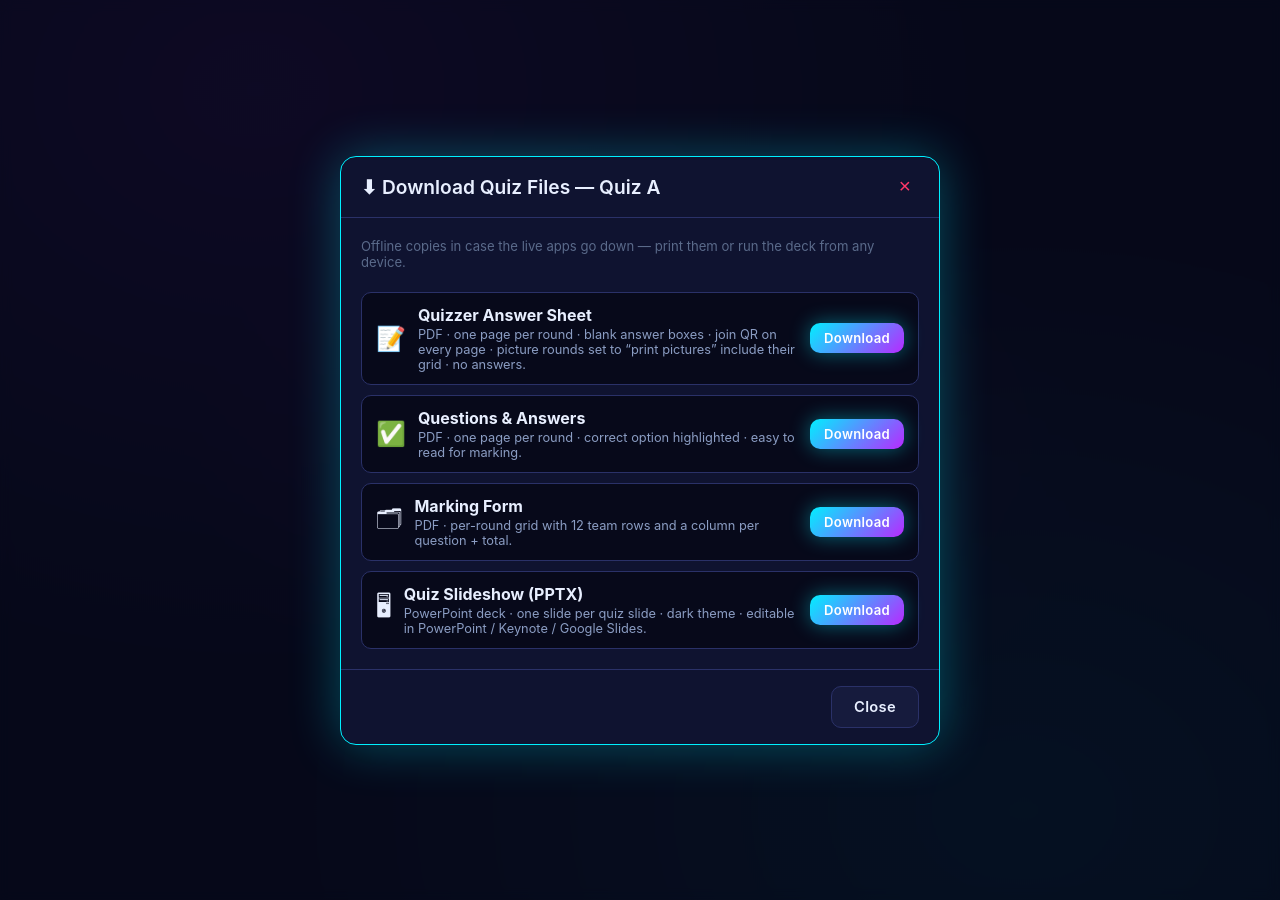
Test: DownloadFilesModal › surfaces a generator error
Expected: the heading "⬇ Download Quiz Files — Quiz A" is shown, [361, 174, 660, 198]
Click the button "Download" in the row of "Questions & Answers".
click(857, 434)  # box [810, 418, 904, 448]
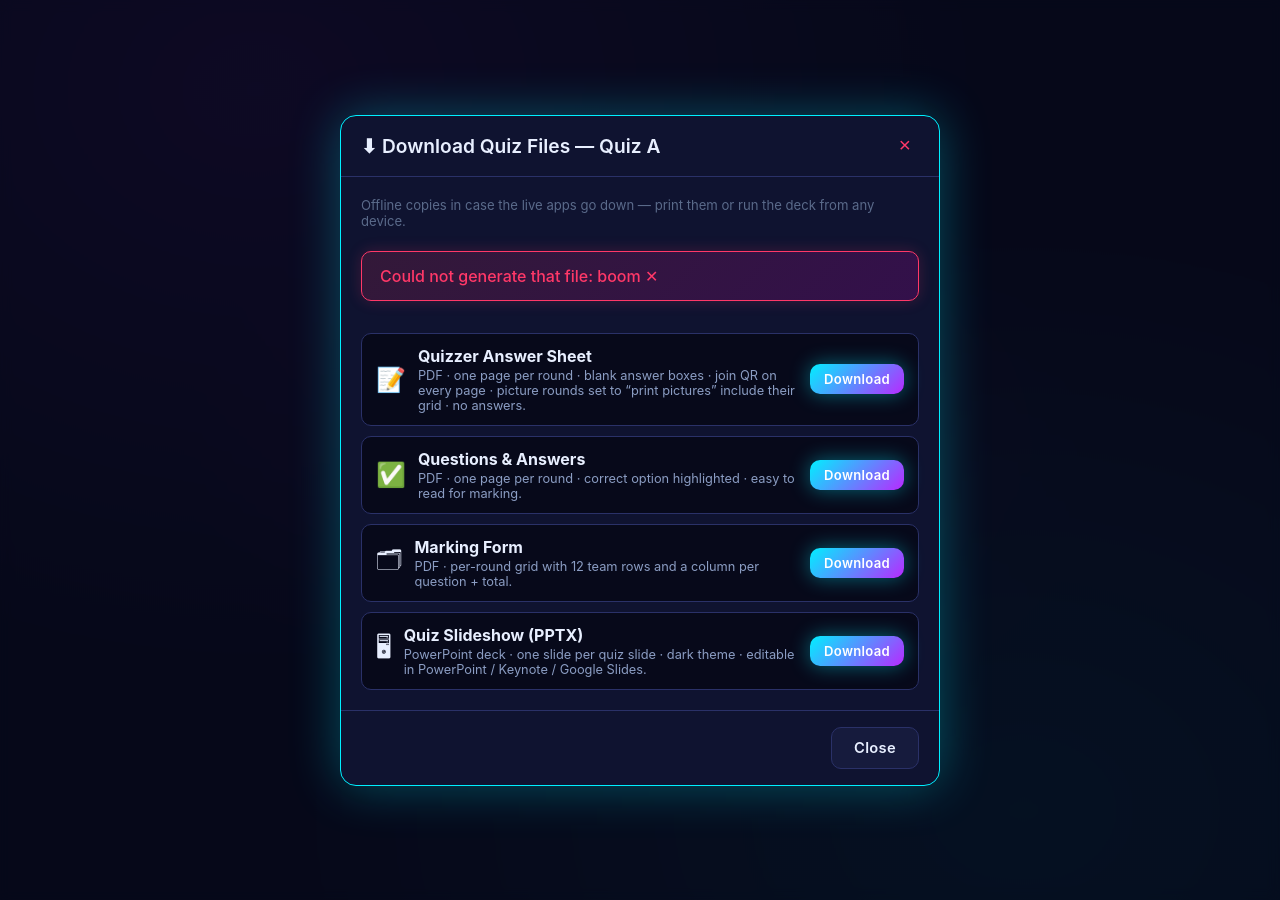
Now the text "Could not generate that file: boom ✕" is shown, box [361, 250, 919, 300]
